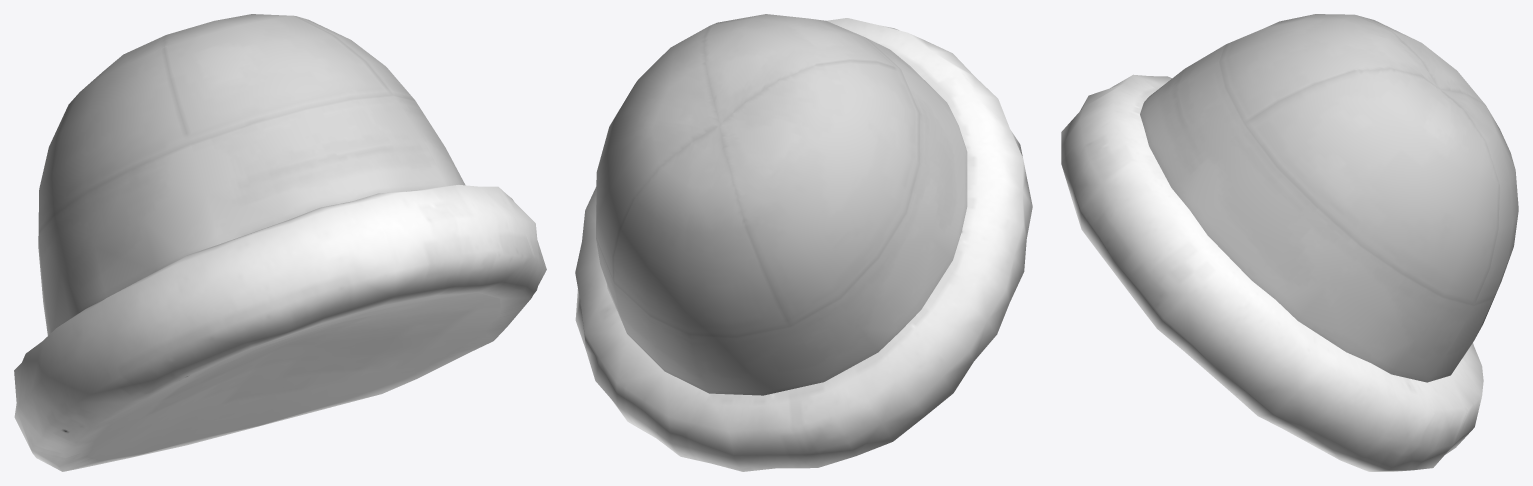
The model's file is p0_hdw1013_00_hdw00.gltf.
3 renders of one model, left to right at view 1: azimuth 30°, elevation 25°; view 2: azimuth 150°, elevation 25°; view 3: azimuth 270°, elevation 25°, orthographic. The views are drawn at different scales.
Visible parts, largest first — view 1: hdw00_fur_mesh_shape:cap_obj, hdw00_cap_mesh_shape:cap; view 2: hdw00_cap_mesh_shape:cap, hdw00_fur_mesh_shape:cap_obj; view 3: hdw00_cap_mesh_shape:cap, hdw00_fur_mesh_shape:cap_obj.
Boxes of the visible parts, x1,y1,x2,y2 form: hdw00_fur_mesh_shape:cap_obj: [14, 185, 546, 471]; hdw00_cap_mesh_shape:cap: [38, 14, 465, 335]; hdw00_cap_mesh_shape:cap: [596, 14, 967, 395]; hdw00_fur_mesh_shape:cap_obj: [575, 18, 1032, 471]; hdw00_cap_mesh_shape:cap: [1140, 14, 1518, 382]; hdw00_fur_mesh_shape:cap_obj: [1061, 74, 1483, 471].
Size of what is drawn, in the model's own units: 0.3523 by 0.3246 by 0.3327.
2 materials, 2 textured.
